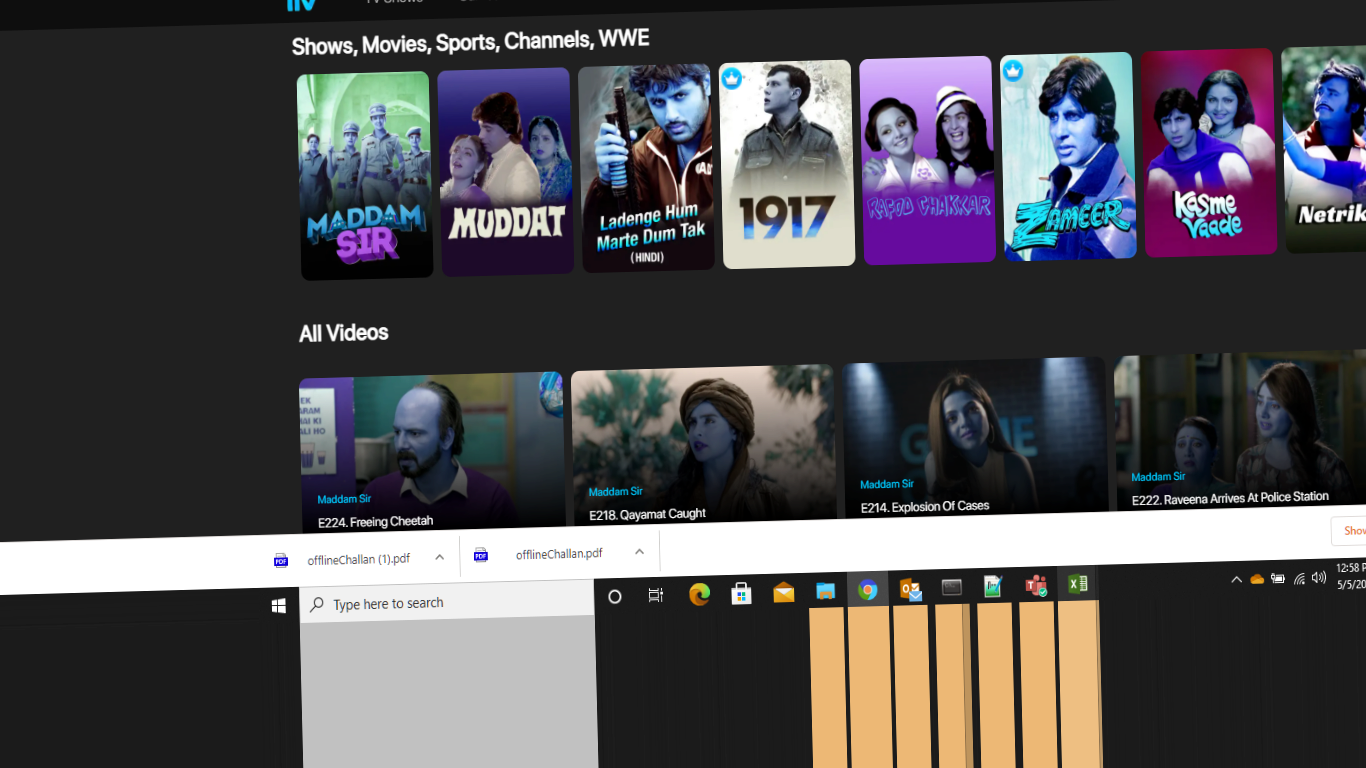resultsfound: (280, 20, 677, 70)
